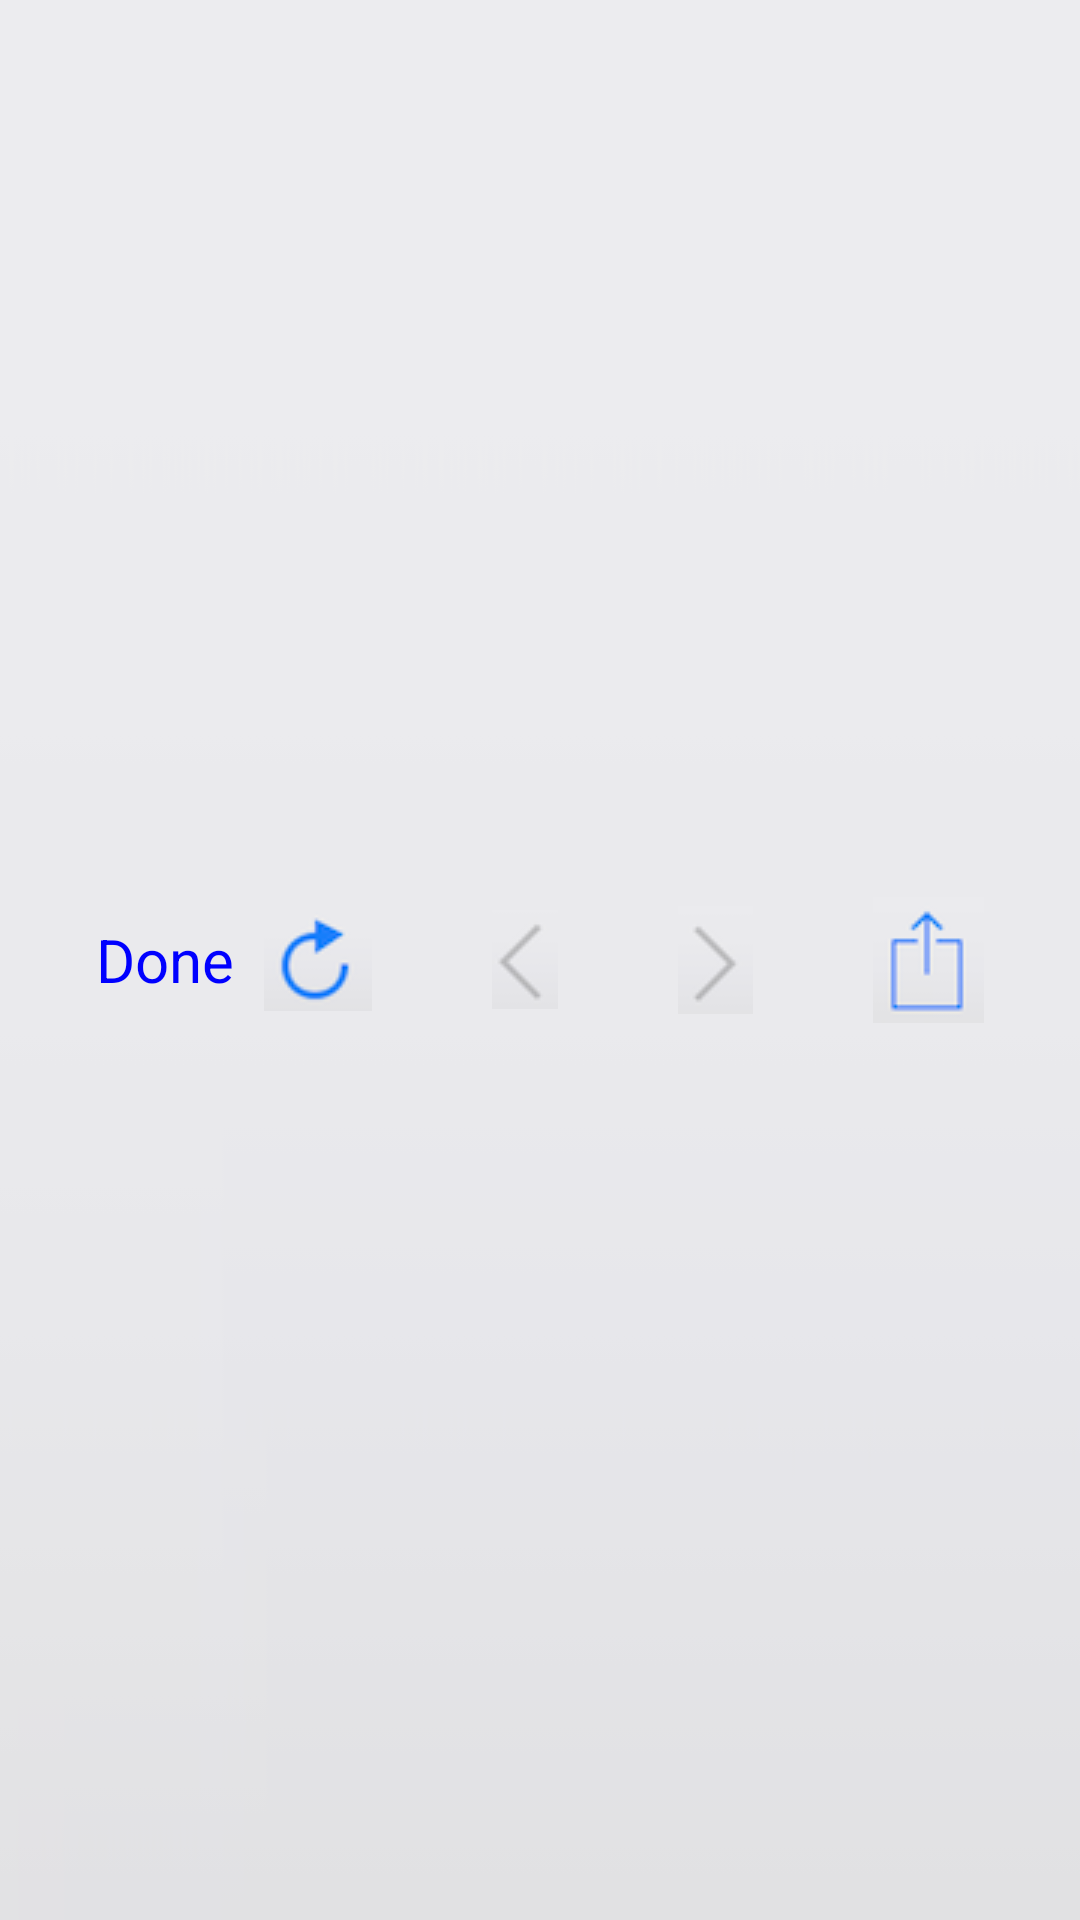

Named icons in this screenshot (1080x1920) and their centers, [x,y]:
back url: [520,962]
next url: [715,964]
reload: [315,959]
share url: [927,961]
